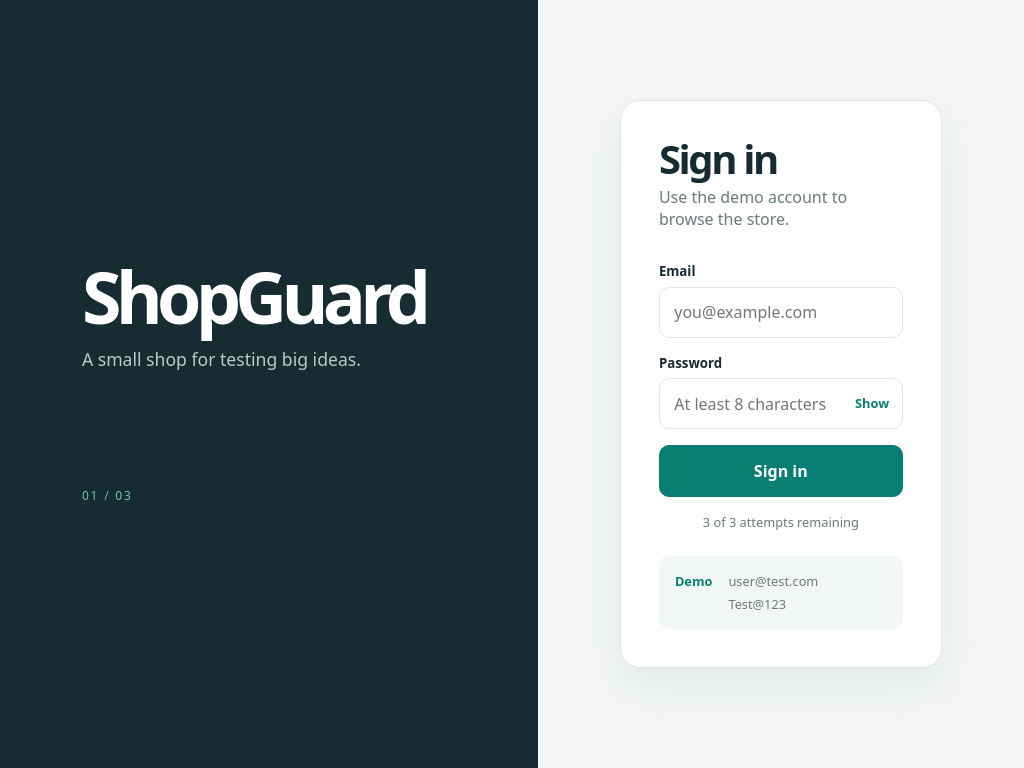
Login Page › should show validation errors for empty fields
This screenshot has width=1024, height=768.
Click the button with test id "login-button": x=781, y=471 [659,445,903,496]
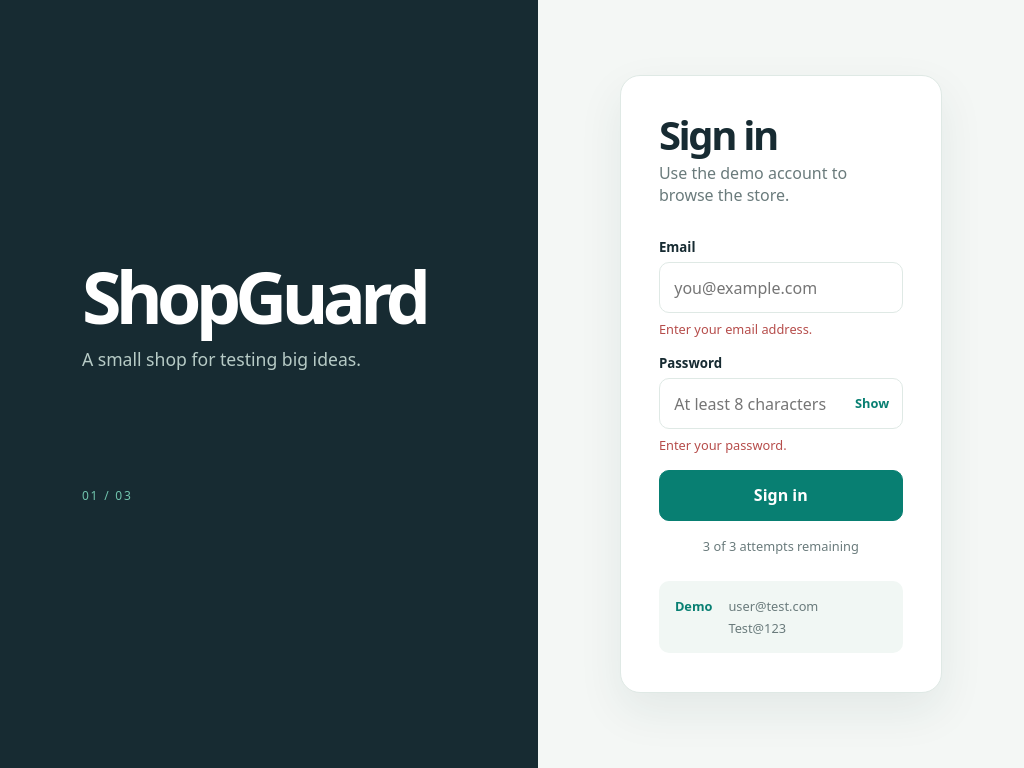
expect the text "Enter your email address." is shown: met, box [659,320,812,338]
expect the text "Enter your password." is shown: met, box [659,436,787,454]
